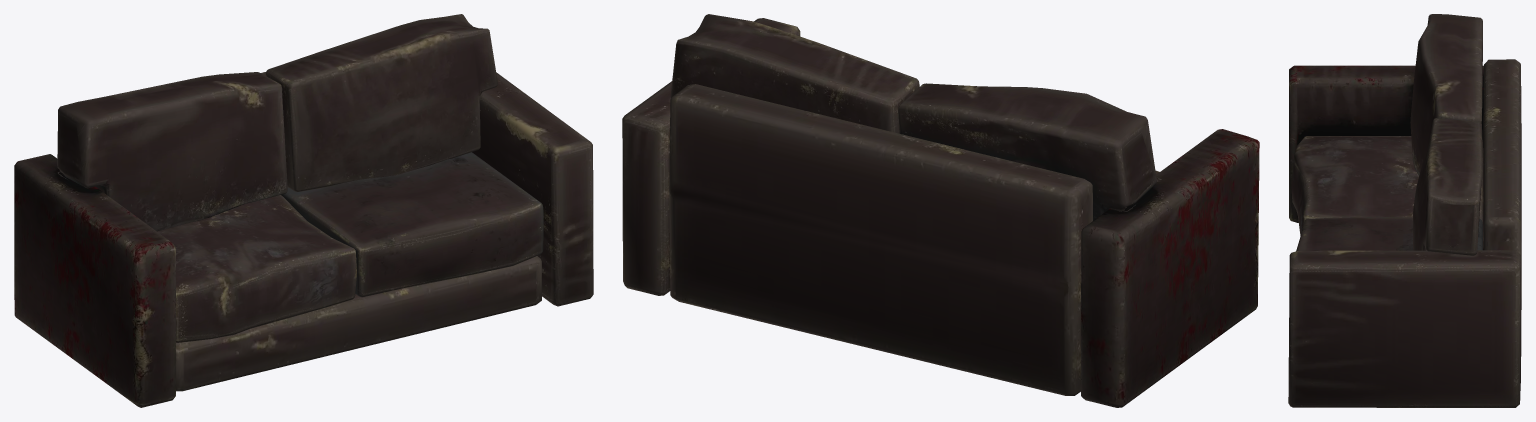
File: sofa.glb
3 views of the same model, side by side, from view 1: azimuth 30°, elevation 25°; view 2: azimuth 150°, elevation 25°; view 3: azimuth 270°, elevation 25° (orthographic). The views are drawn at different scales.
Visible parts, largest first — view 1: Box001_5_0, Box001_2_0, Box001_1_0, Box001_3_0, Box001_4_0, Box001_7_0, Box001_6_0; view 2: Box001_7_0, Box001_5_0, Box001_1_0, Box001_2_0, Box001_6_0; view 3: Box001_6_0, Box001_4_0, Box001_5_0, Box001_2_0, Box001_1_0, Box001_7_0, Box001_3_0.
Part boxes in pixels (x1=…): Box001_5_0: x1=14, y1=154, x2=175, y2=407; Box001_2_0: x1=266, y1=14, x2=497, y2=191; Box001_1_0: x1=57, y1=72, x2=287, y2=231; Box001_3_0: x1=281, y1=152, x2=543, y2=297; Box001_4_0: x1=157, y1=195, x2=356, y2=342; Box001_7_0: x1=176, y1=72, x2=541, y2=391; Box001_6_0: x1=472, y1=72, x2=593, y2=306; Box001_7_0: x1=669, y1=84, x2=1092, y2=395; Box001_5_0: x1=1081, y1=129, x2=1259, y2=407; Box001_1_0: x1=898, y1=83, x2=1156, y2=220; Box001_2_0: x1=670, y1=14, x2=919, y2=133; Box001_6_0: x1=622, y1=18, x2=800, y2=295; Box001_6_0: x1=1288, y1=250, x2=1520, y2=407; Box001_4_0: x1=1291, y1=136, x2=1483, y2=248; Box001_5_0: x1=1289, y1=65, x2=1483, y2=222; Box001_2_0: x1=1413, y1=118, x2=1482, y2=255; Box001_1_0: x1=1410, y1=14, x2=1482, y2=175; Box001_7_0: x1=1483, y1=59, x2=1521, y2=382; Box001_3_0: x1=1296, y1=217, x2=1482, y2=251.
Size of the model in its own units: 1.99 by 0.9582 by 0.9668.
7 materials, 7 textured.
